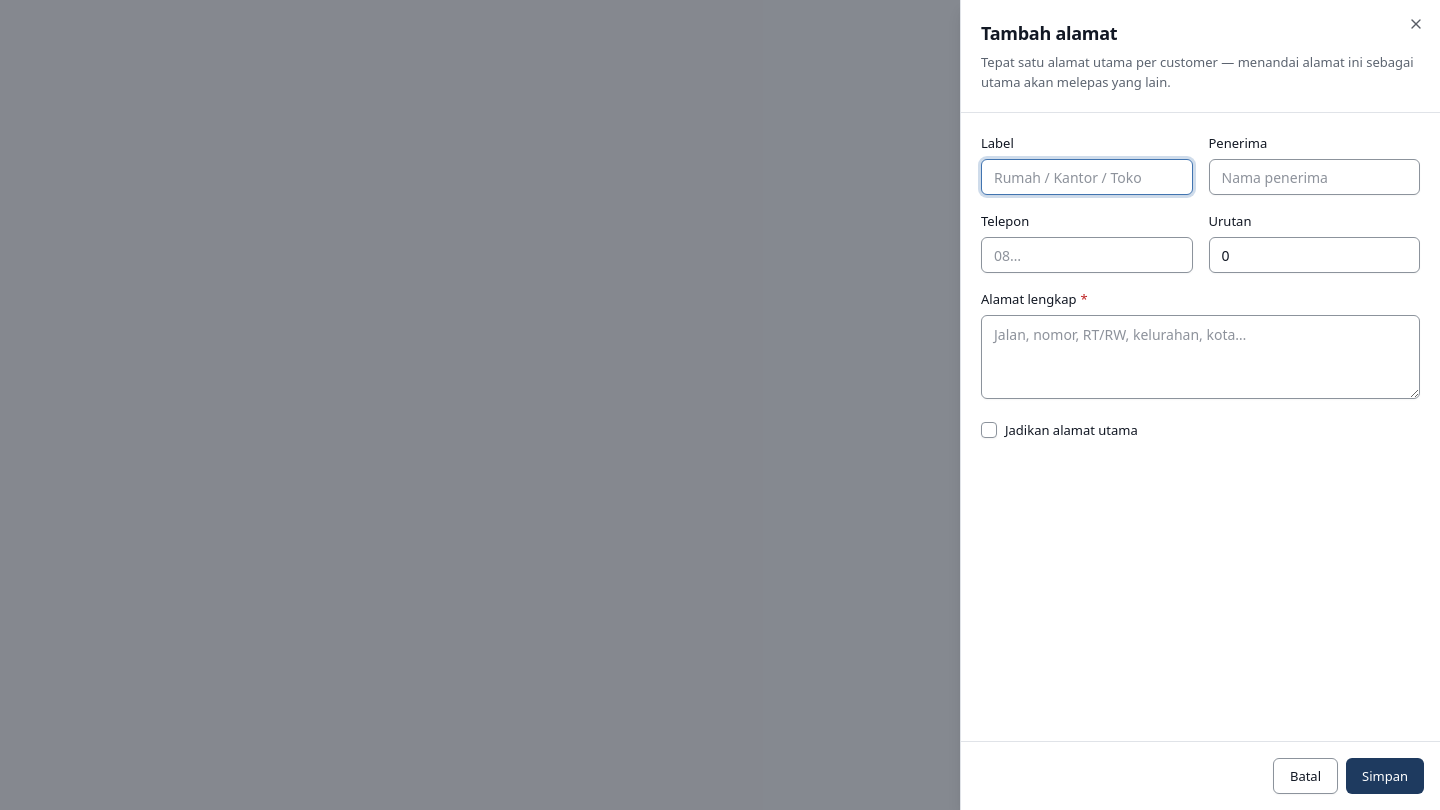
AddressFormModal (pemilih/buku alamat) › telepon tidak valid ditolak di klien (urutan negatif dicegah validasi bawaan peramban)
Type "Jl. X" into the text box labelled "Alamat lengkap *".
click(1200, 357); type("Jl. X")  # box [981, 315, 1420, 399]
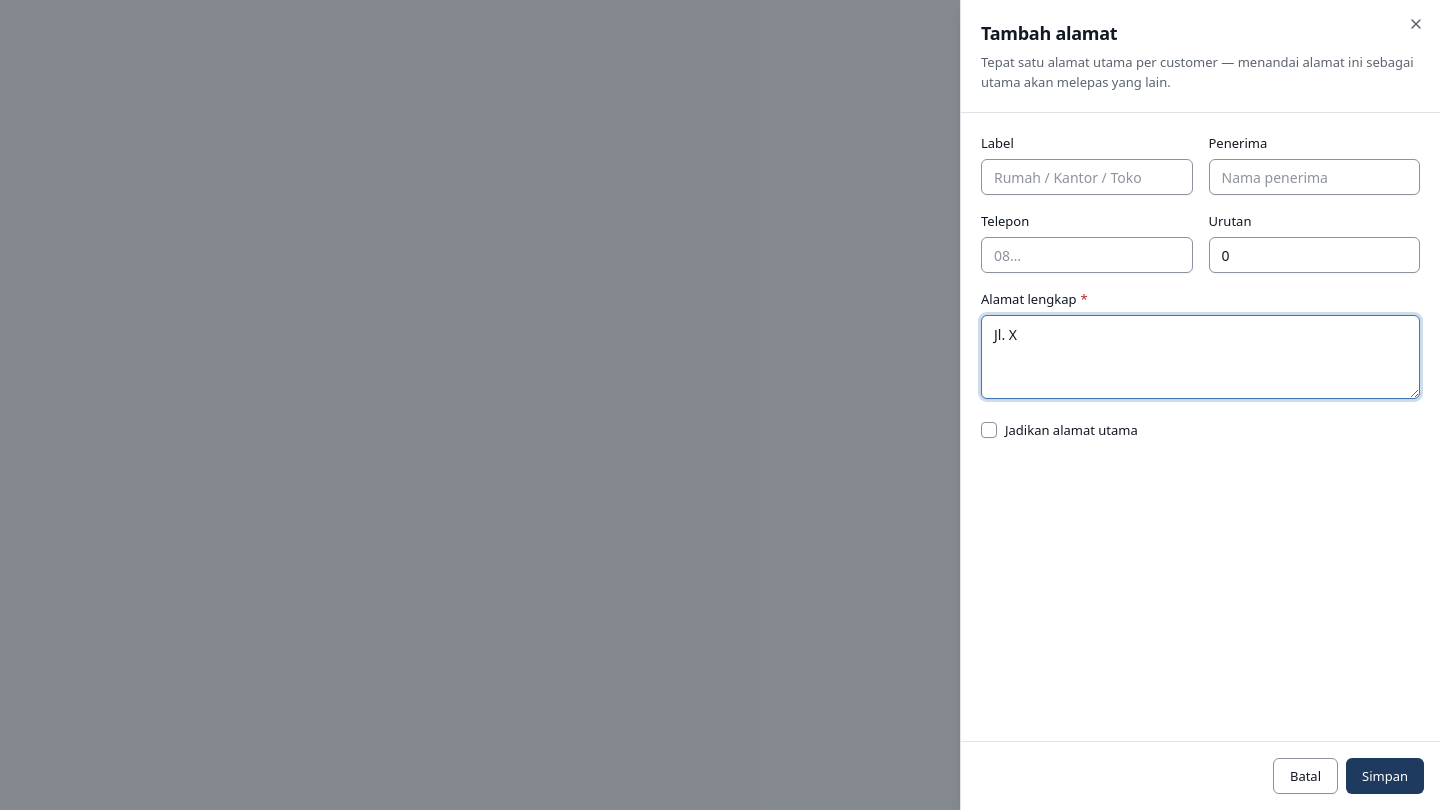
Type "abc123" into the field labelled "Telepon".
click(1087, 255); type("abc123")  # box [981, 237, 1192, 273]
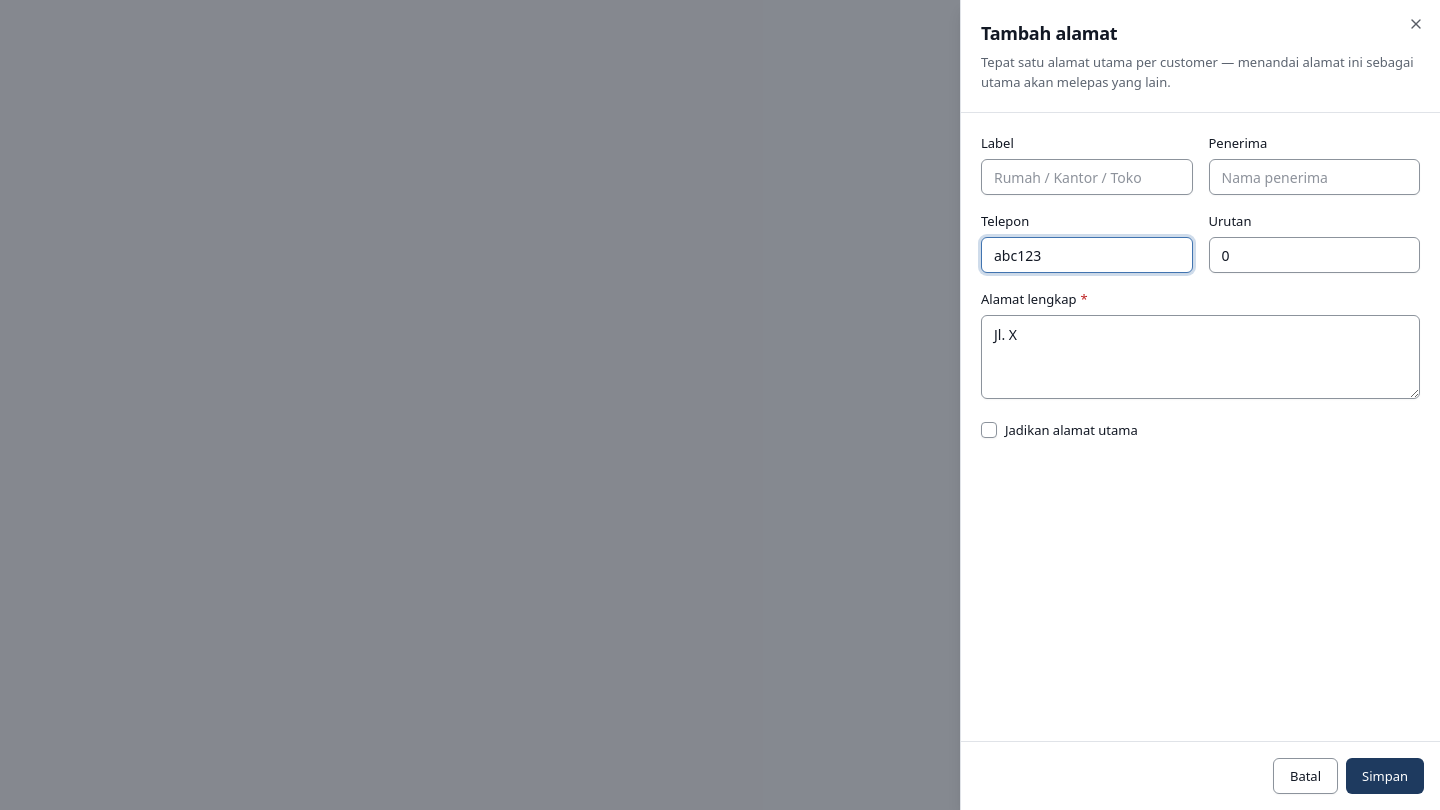
Click the button "Simpan".
click(1385, 776)  # box [1346, 758, 1424, 794]
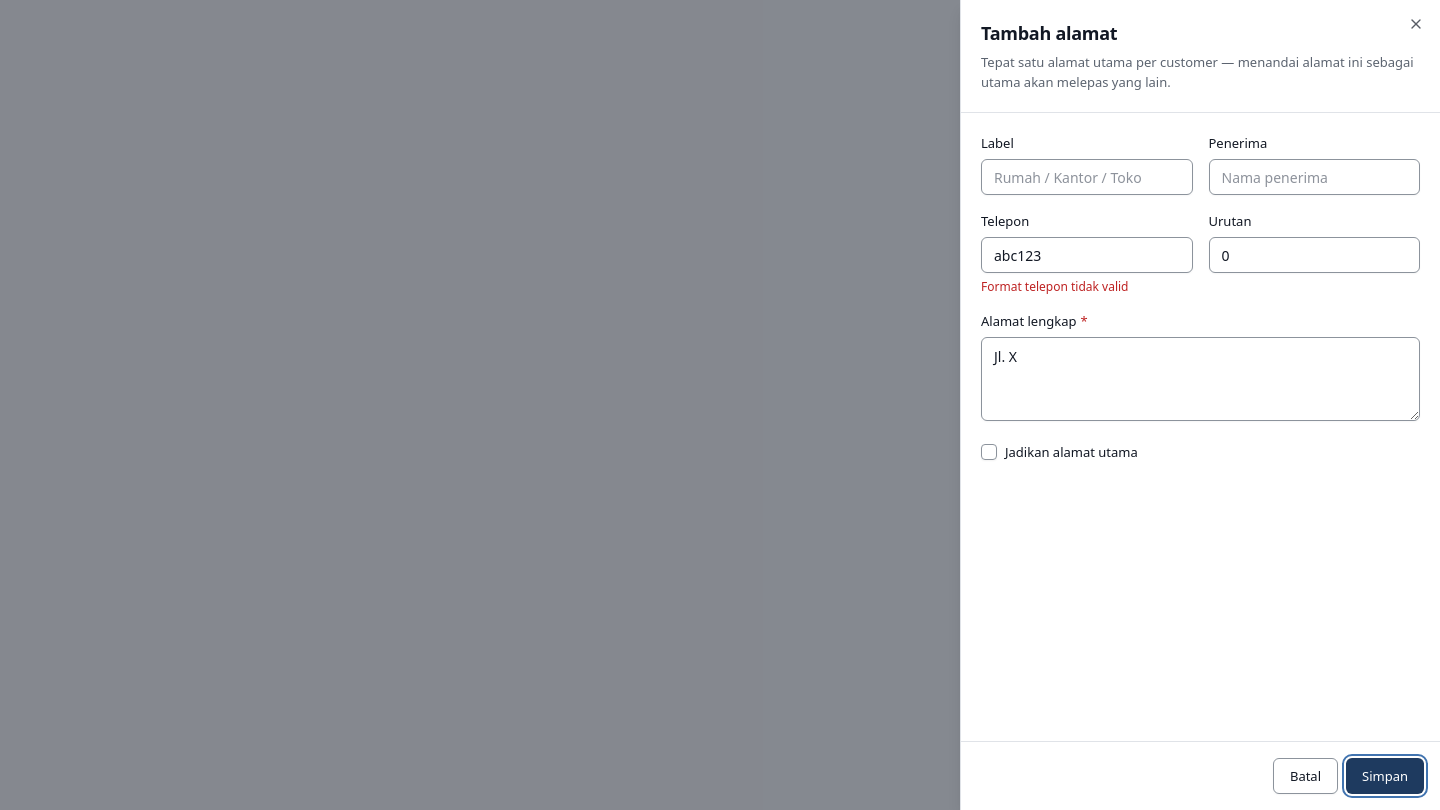
Expected: the text "Format telepon tidak valid" is shown, [981, 278, 1128, 295]
